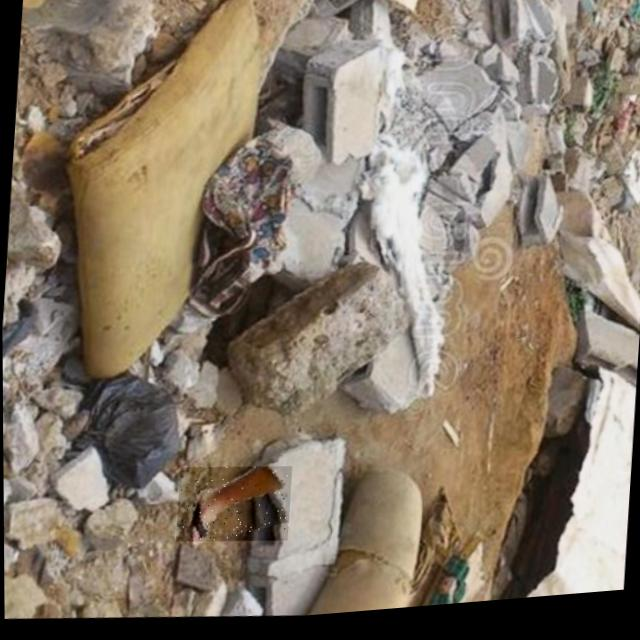Person in Rubble: (173, 463, 290, 552)
